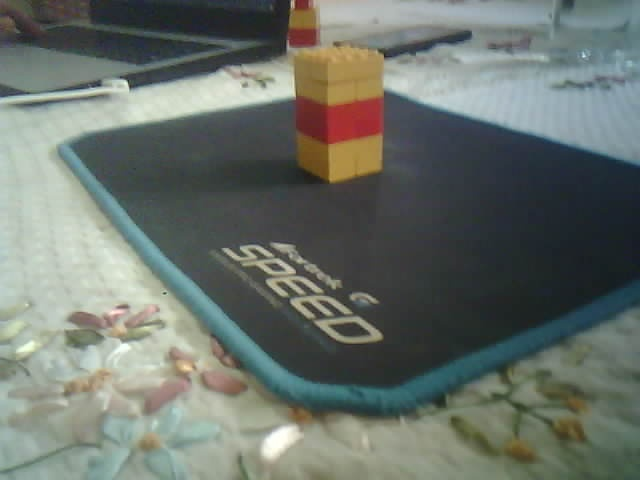lego: (291, 44, 385, 184), (286, 1, 320, 62)
